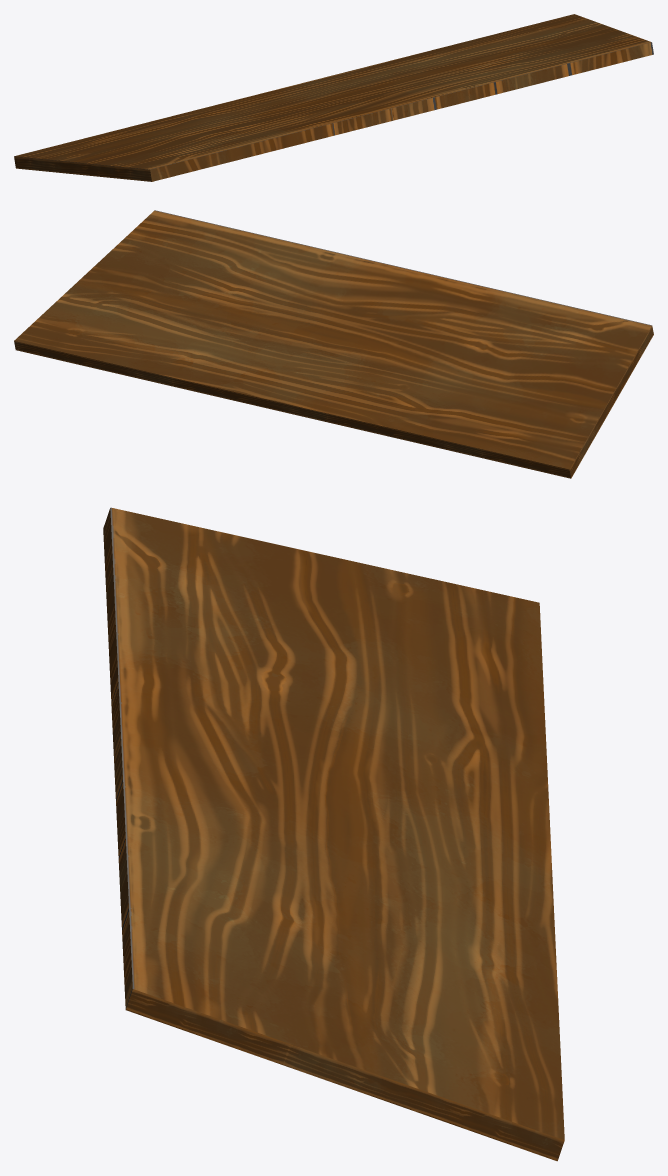
3 renders of one model, top to bottom at view 1: azimuth 30°, elevation 25°; view 2: azimuth 150°, elevation 25°; view 3: azimuth 270°, elevation 25°, orthographic. The views are drawn at different scales.
Parts seen in each view (by area): view 1: Cube.545; view 2: Cube.545; view 3: Cube.545.
Part boxes in pixels (x1,y1,x2,y2): Cube.545: [14, 14, 653, 181]; Cube.545: [14, 210, 653, 478]; Cube.545: [103, 507, 564, 1161].
Size of the model in its own units: 587 by 72.5 by 214.
1 material, 1 textured.
